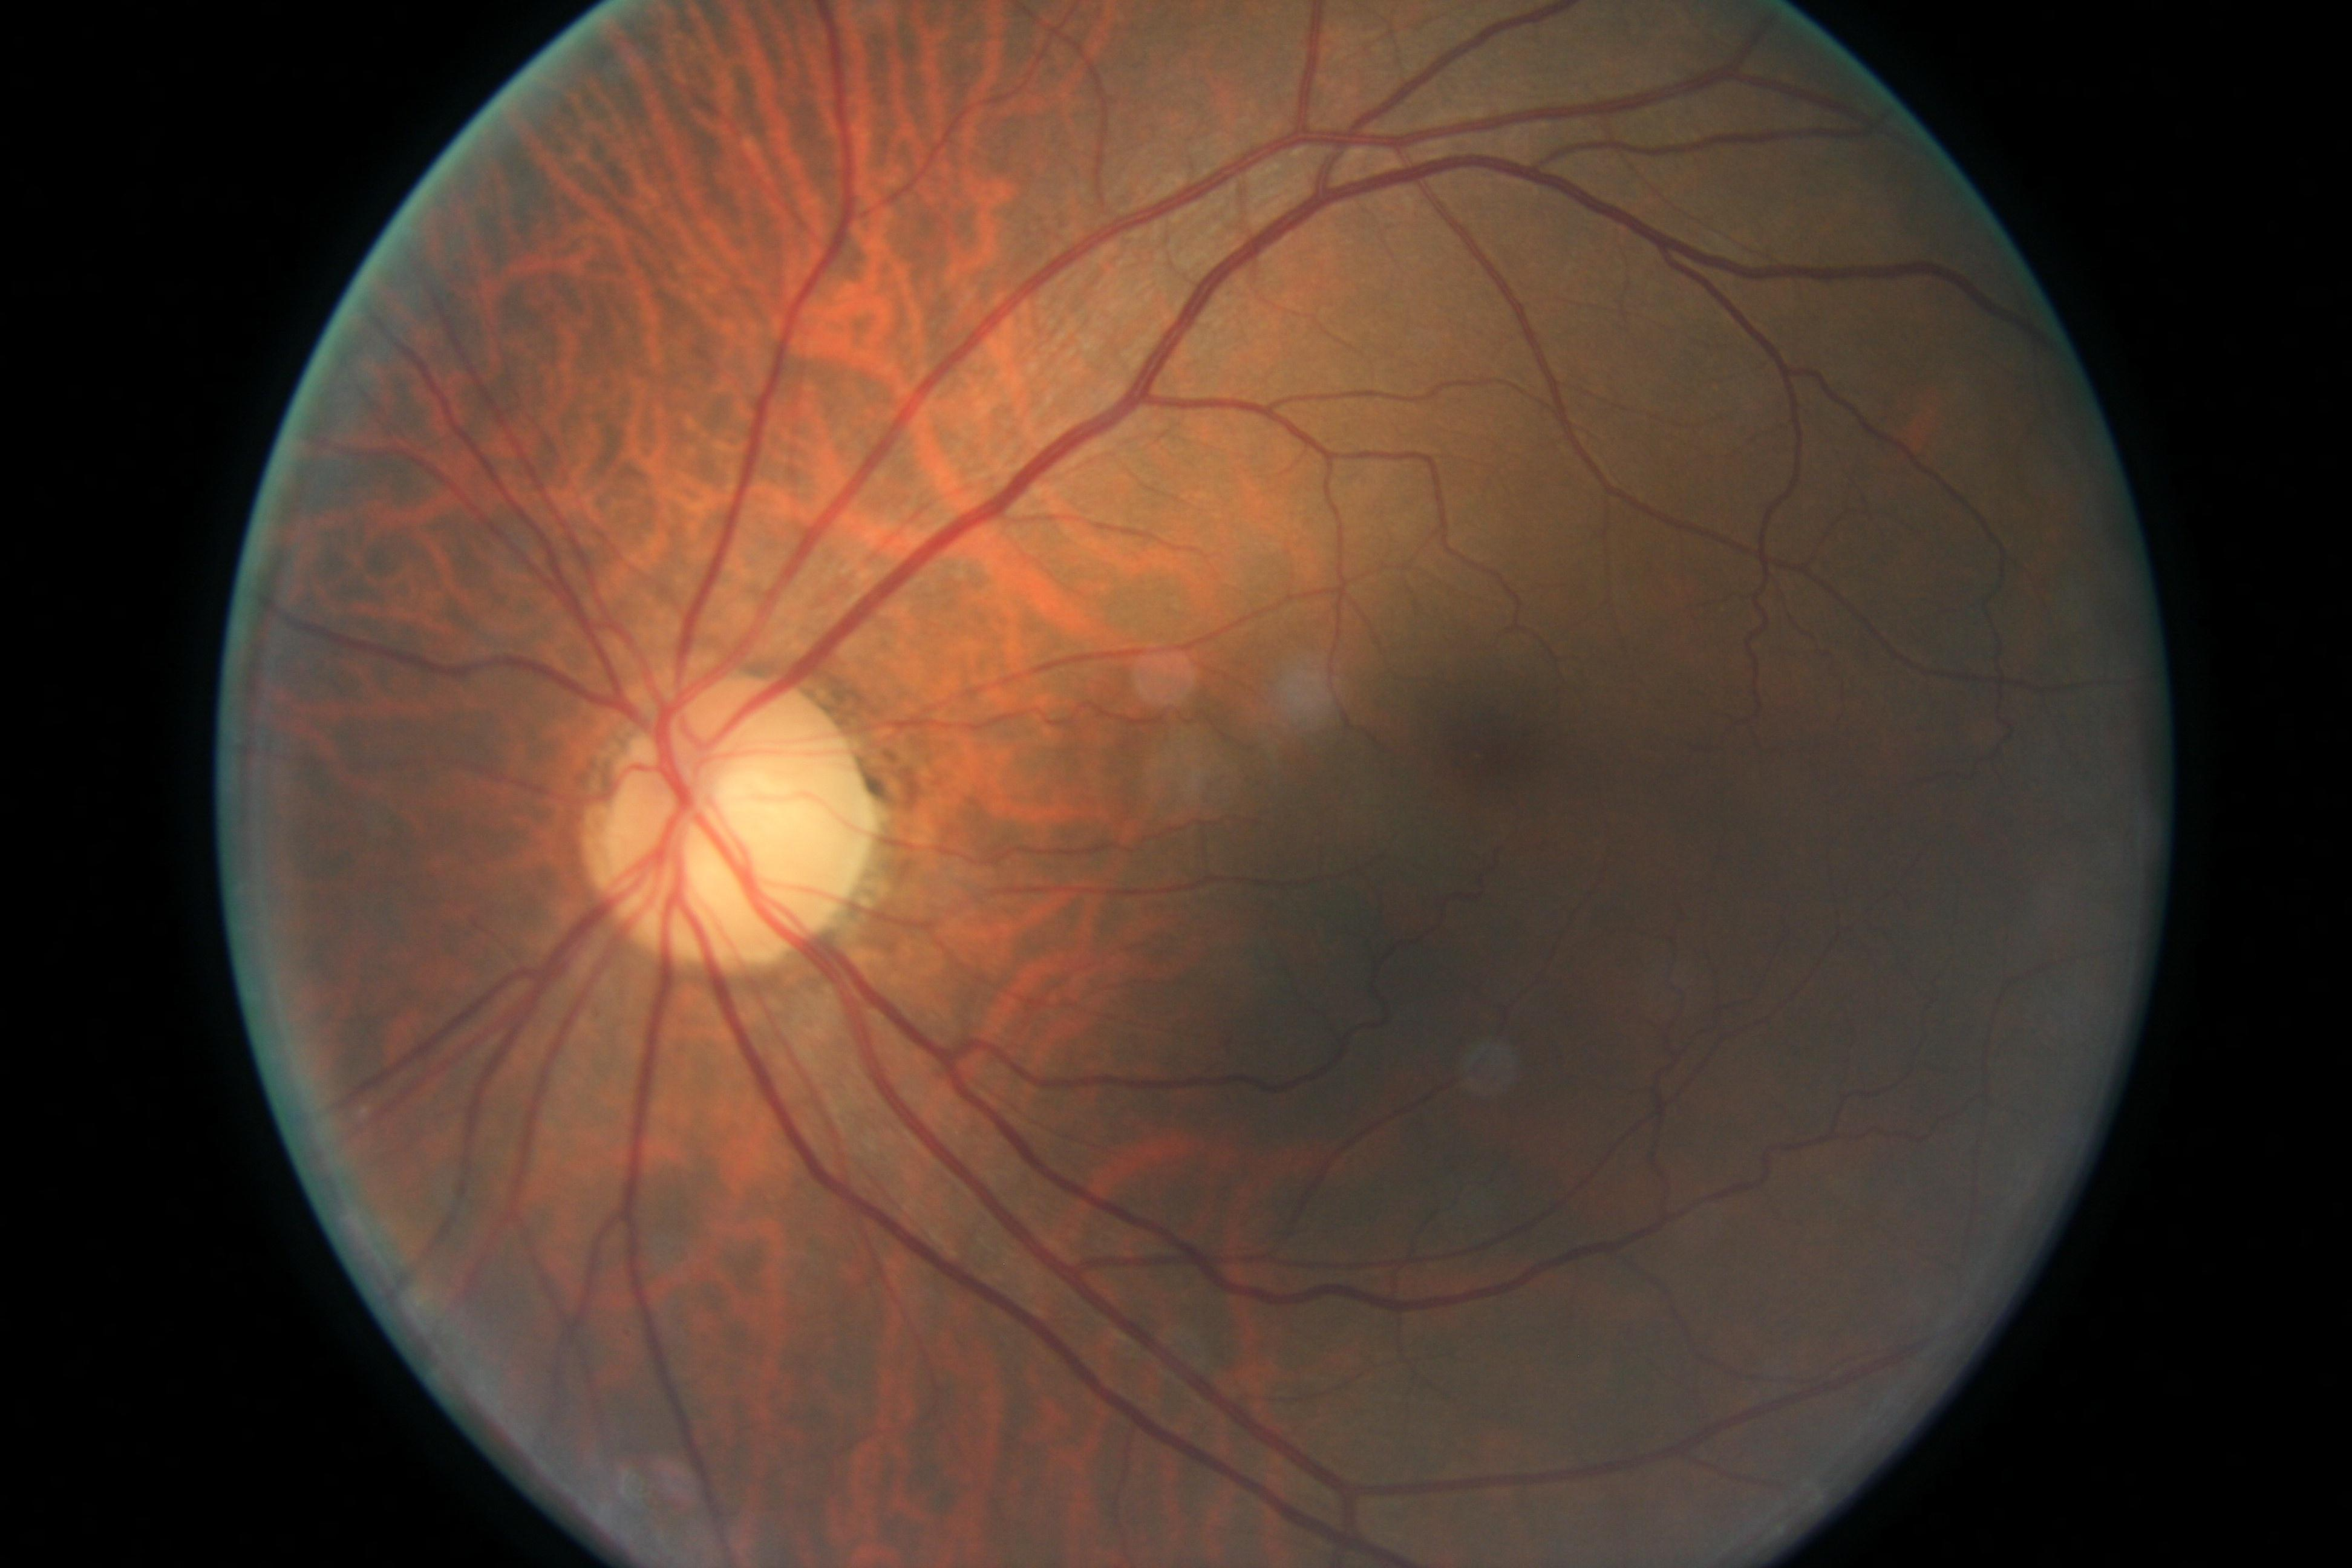Optic-nerve: (593, 665, 897, 993)
macula: (1278, 585, 1696, 913)
